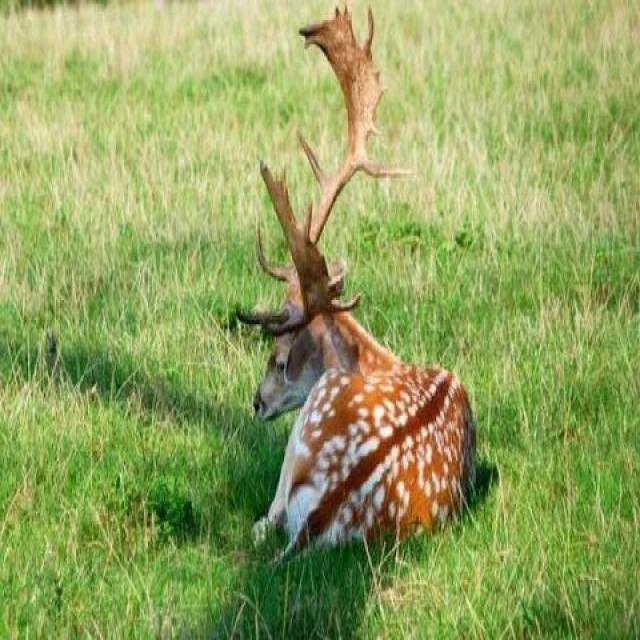deer: (217, 60, 486, 592)
